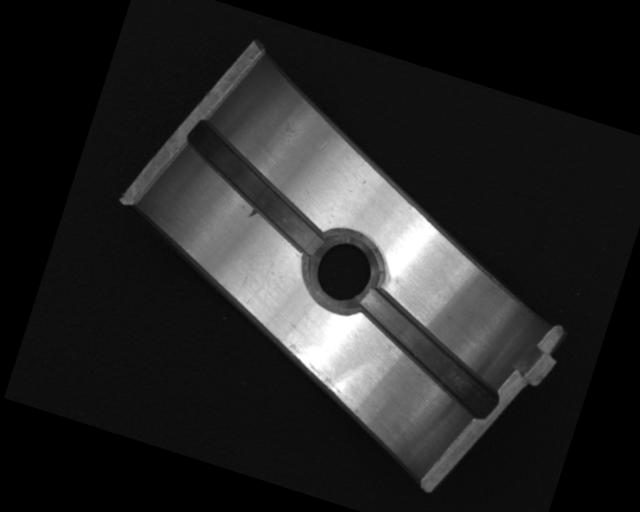bruise: (246, 207, 260, 221)
gap: (166, 118, 344, 258), (338, 286, 517, 421)
hole: (298, 224, 388, 319)
